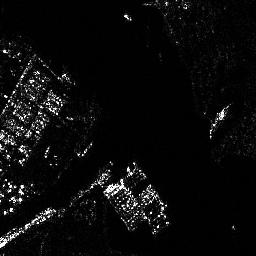ship: (208, 103, 230, 138)
